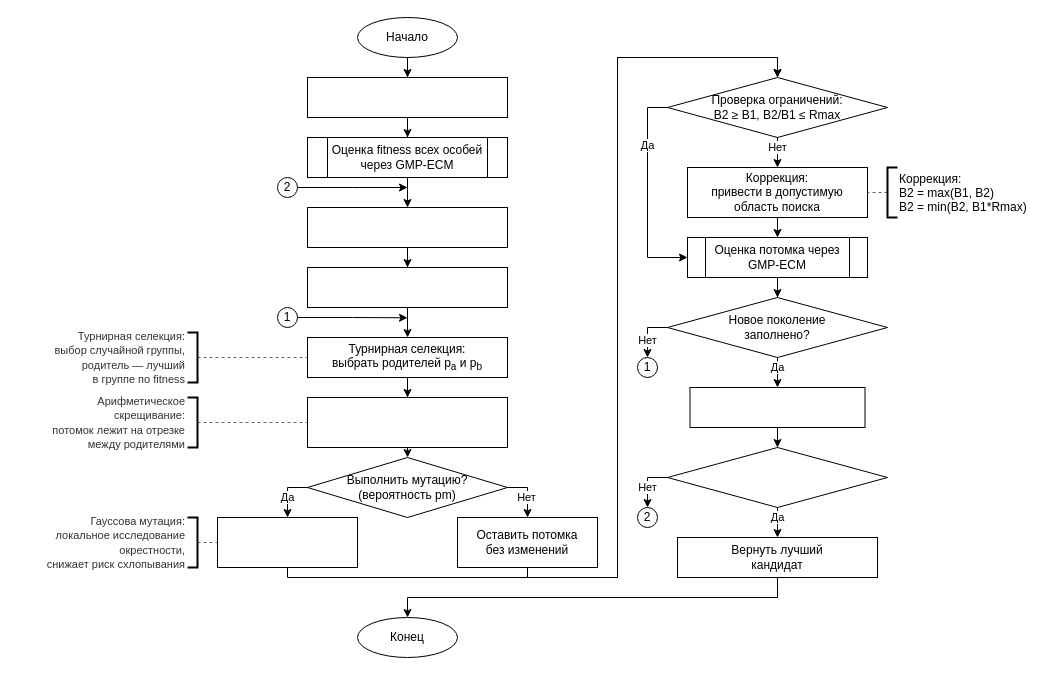
The diagram is 1044 pixels wide and 675 high, and some of its shapes have lost their labels. Each missing label, with the centre of its shape:
"Арифметическое скрещивание: c = α * p a + (1-α) * p b α ~ U(0,1)" goes at [407,422].
"Бюджет/число поколений исчерпано?" goes at [777,477].
"Гауссова мутация: c' = c + ε ε ~ N(0, σ²)" goes at [287,542].
"Инициализация популяции P (0) (случайно в log-пространстве)" goes at [407,97].
"Сортировка популяции по fitness" goes at [407,227].
"Сформировать новое поколение (элита + потомки)" goes at [777,407].
"Элитизм: перенести лучших особей в новое поколение" goes at [407,287].
